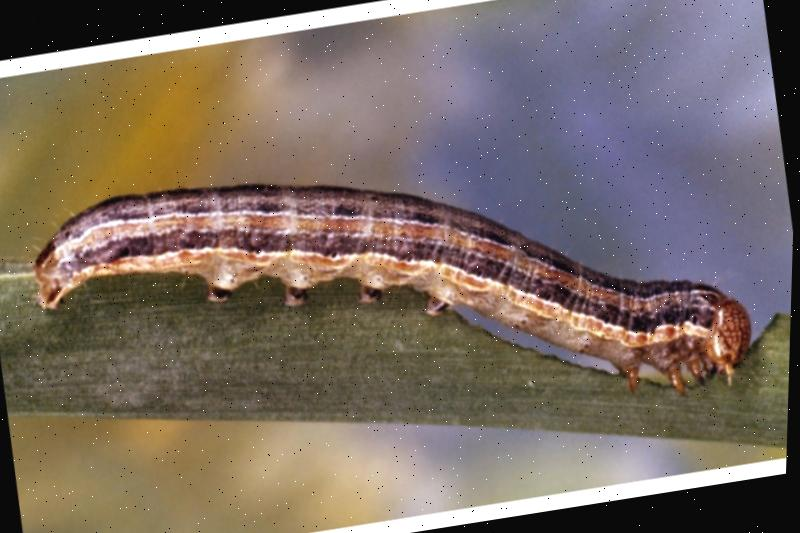fall-armyworm: (34, 184, 755, 398)
